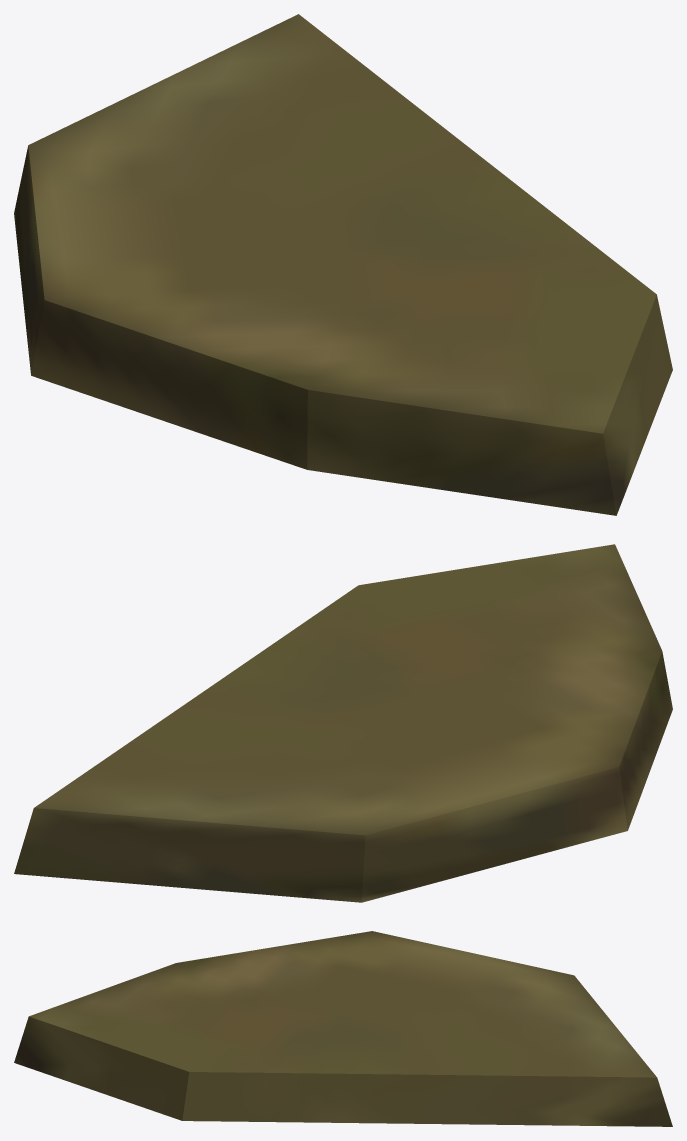
Rendered from paver_06.fbx.
The picture shows the model from 3 angles, top to bottom: view 1: azimuth 30°, elevation 25°; view 2: azimuth 150°, elevation 25°; view 3: azimuth 270°, elevation 25°; orthographic projection. The views are drawn at different scales.
Parts seen in each view (by area): view 1: obj0.183; view 2: obj0.183; view 3: obj0.183.
Part boxes in pixels (x1,y1,x2,y2): obj0.183: (14,14,672,515); obj0.183: (14,544,672,902); obj0.183: (14,931,672,1126).
Size of the model in its own units: 0.5215 by 0.0727 by 0.9453.
